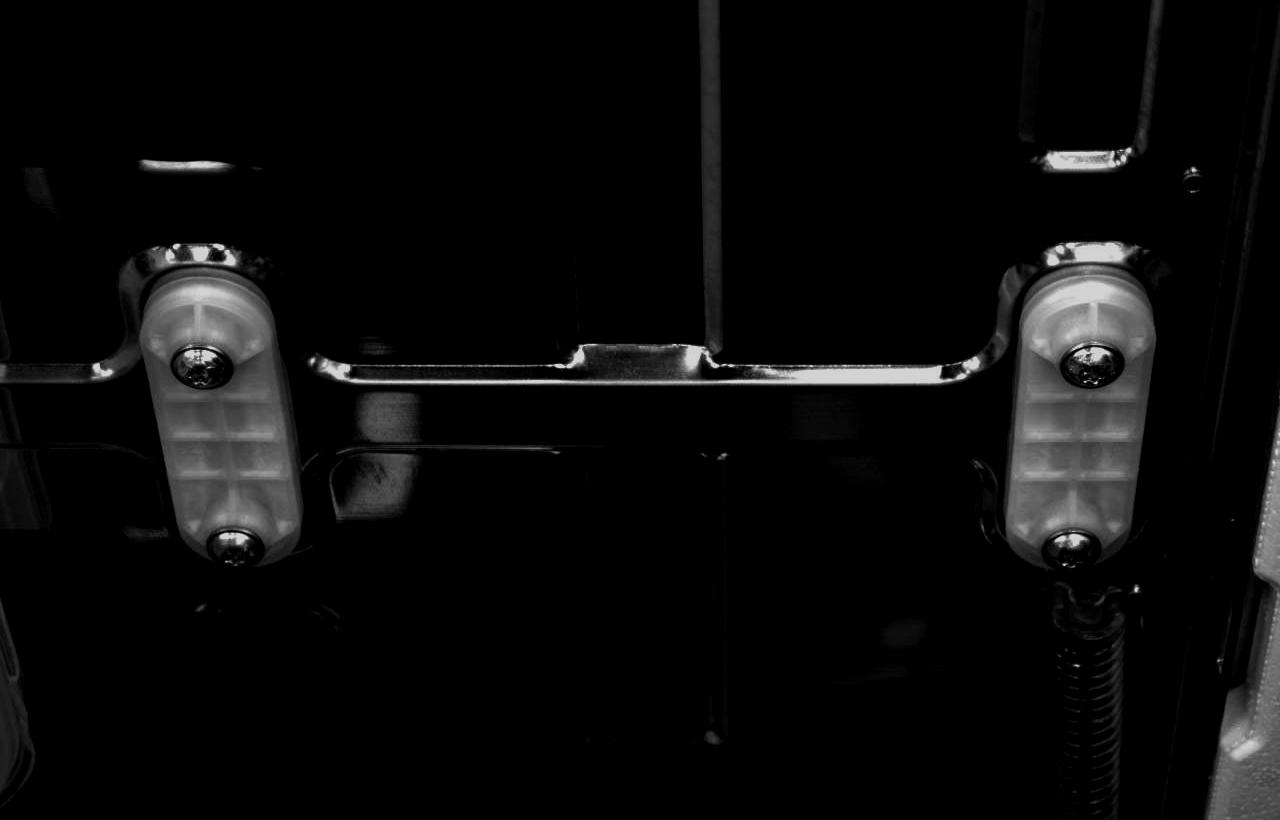vida-ok: (164, 329, 236, 397), (1059, 329, 1126, 397), (1039, 518, 1104, 577), (203, 517, 269, 575)
